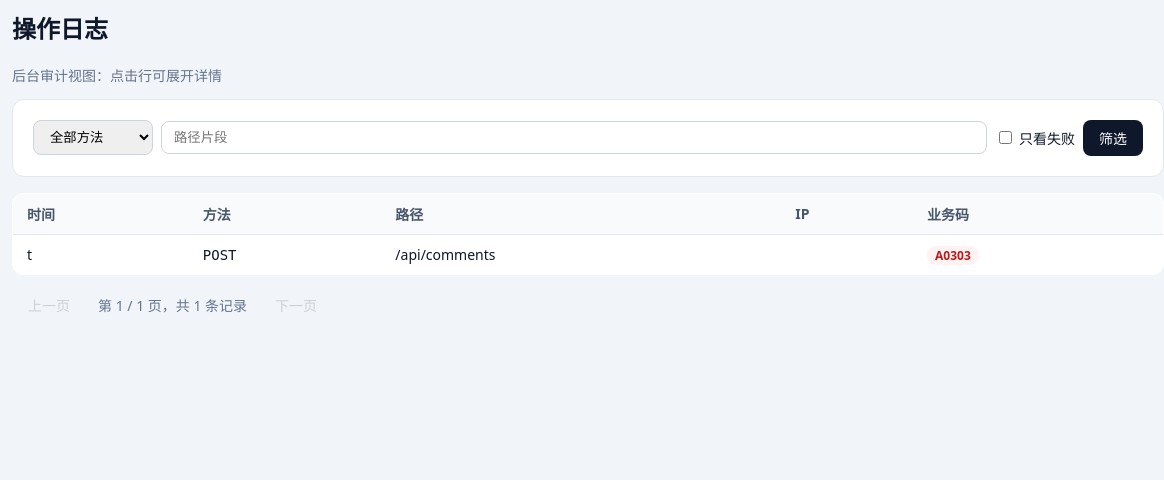
Test: Logs.vue › 点击行展开详情，再点收起
The image size is (1164, 480).
Expected: the text "smoke-agent" is not shown
What coordinates should you click on to do the following:
click the row "t POST /api/comments A0303"
I would click on:
 (588, 254)
Its box is [12,234,1163,274].
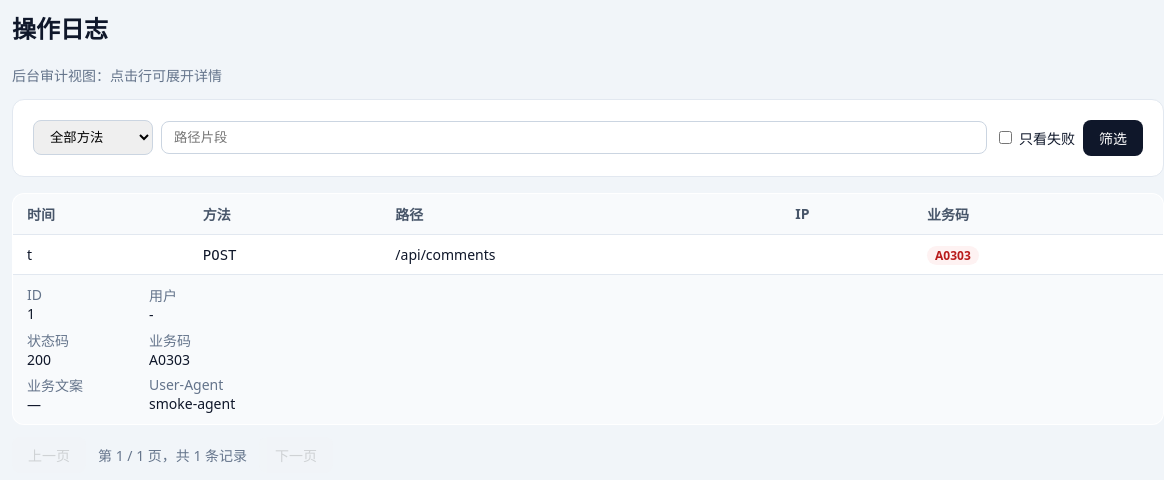
Expected: the text "A0303" is shown, [927,246,979,265]
Expected: the text "smoke-agent" is shown, [149,394,235,413]
What coordinates should you click on to do the following:
click the row "t POST /api/comments A0303"
I would click on:
 (588, 254)
Its box is [12,234,1163,274].
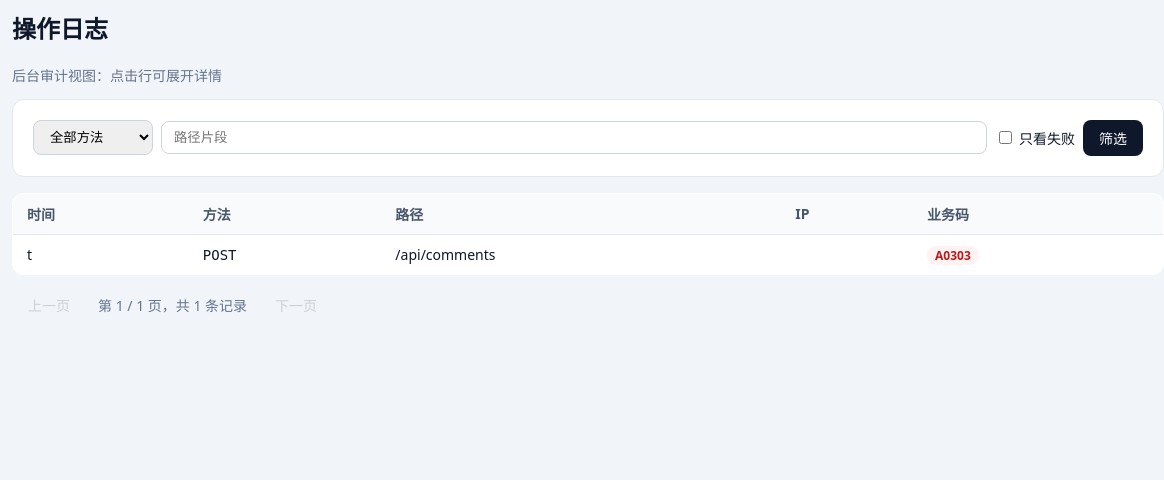
Expected: the text "smoke-agent" is gone
